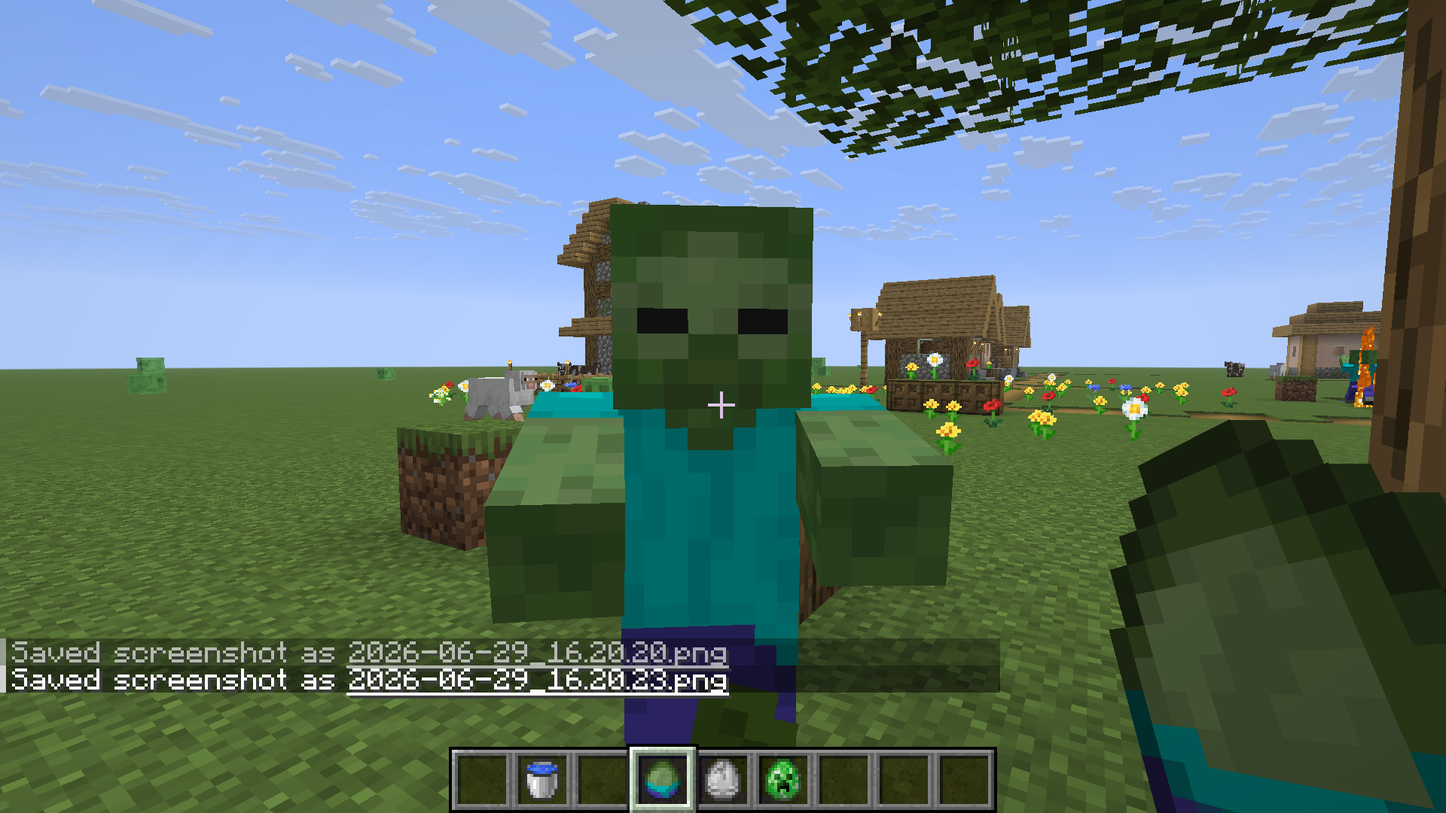Sheep: (458, 362, 546, 430)
zombie: (488, 169, 970, 635), (609, 201, 816, 414), (1338, 338, 1383, 412)
